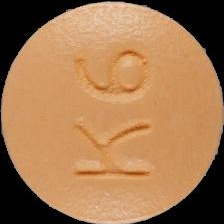68788-9508: (0, 0, 224, 224)
